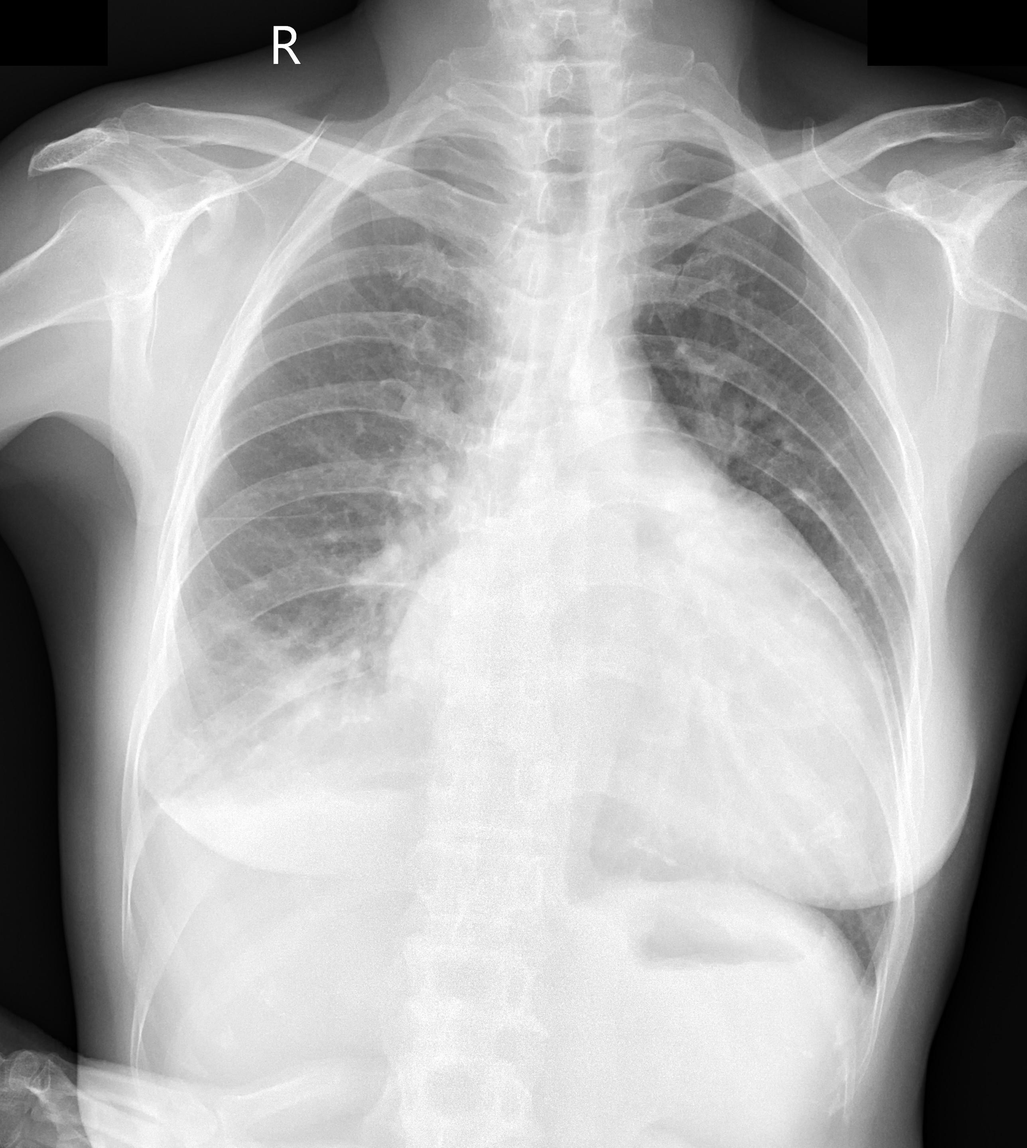Cardiomegaly: (383, 552, 911, 904)
